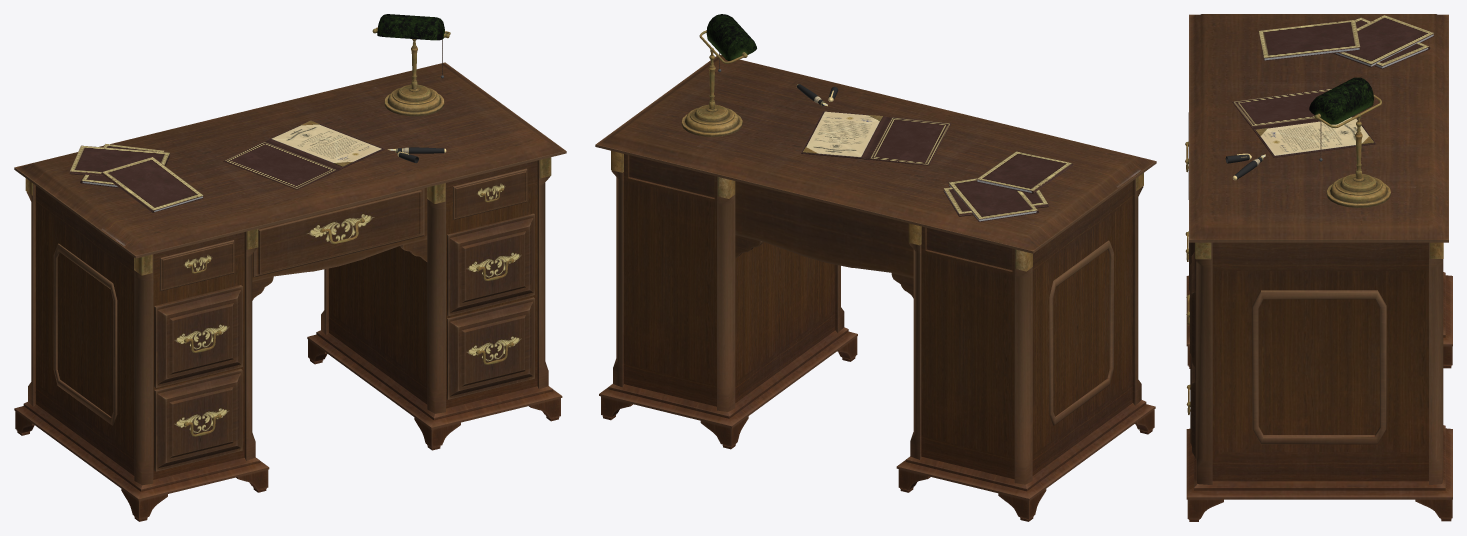
File: OldDesk.fbx
3 views of the same model, side by side, from view 1: azimuth 30°, elevation 25°; view 2: azimuth 150°, elevation 25°; view 3: azimuth 270°, elevation 25° (orthographic). The views are drawn at different scales.
Parts seen in each view (by area): view 1: Box002, Cylinder001; view 2: Box002, Cylinder001; view 3: Box002, Cylinder001.
Part boxes in pixels (x1=…): Box002: x1=14, y1=62, x2=566, y2=521; Cylinder001: x1=69, y1=14, x2=450, y2=212; Box002: x1=595, y1=54, x2=1156, y2=521; Cylinder001: x1=681, y1=14, x2=1073, y2=222; Box002: x1=1185, y1=14, x2=1452, y2=521; Cylinder001: x1=1225, y1=15, x2=1434, y2=207.
Bounding box in the file's own units: 200 × 164 × 100.
Materials: 2 (2 with a texture image).
